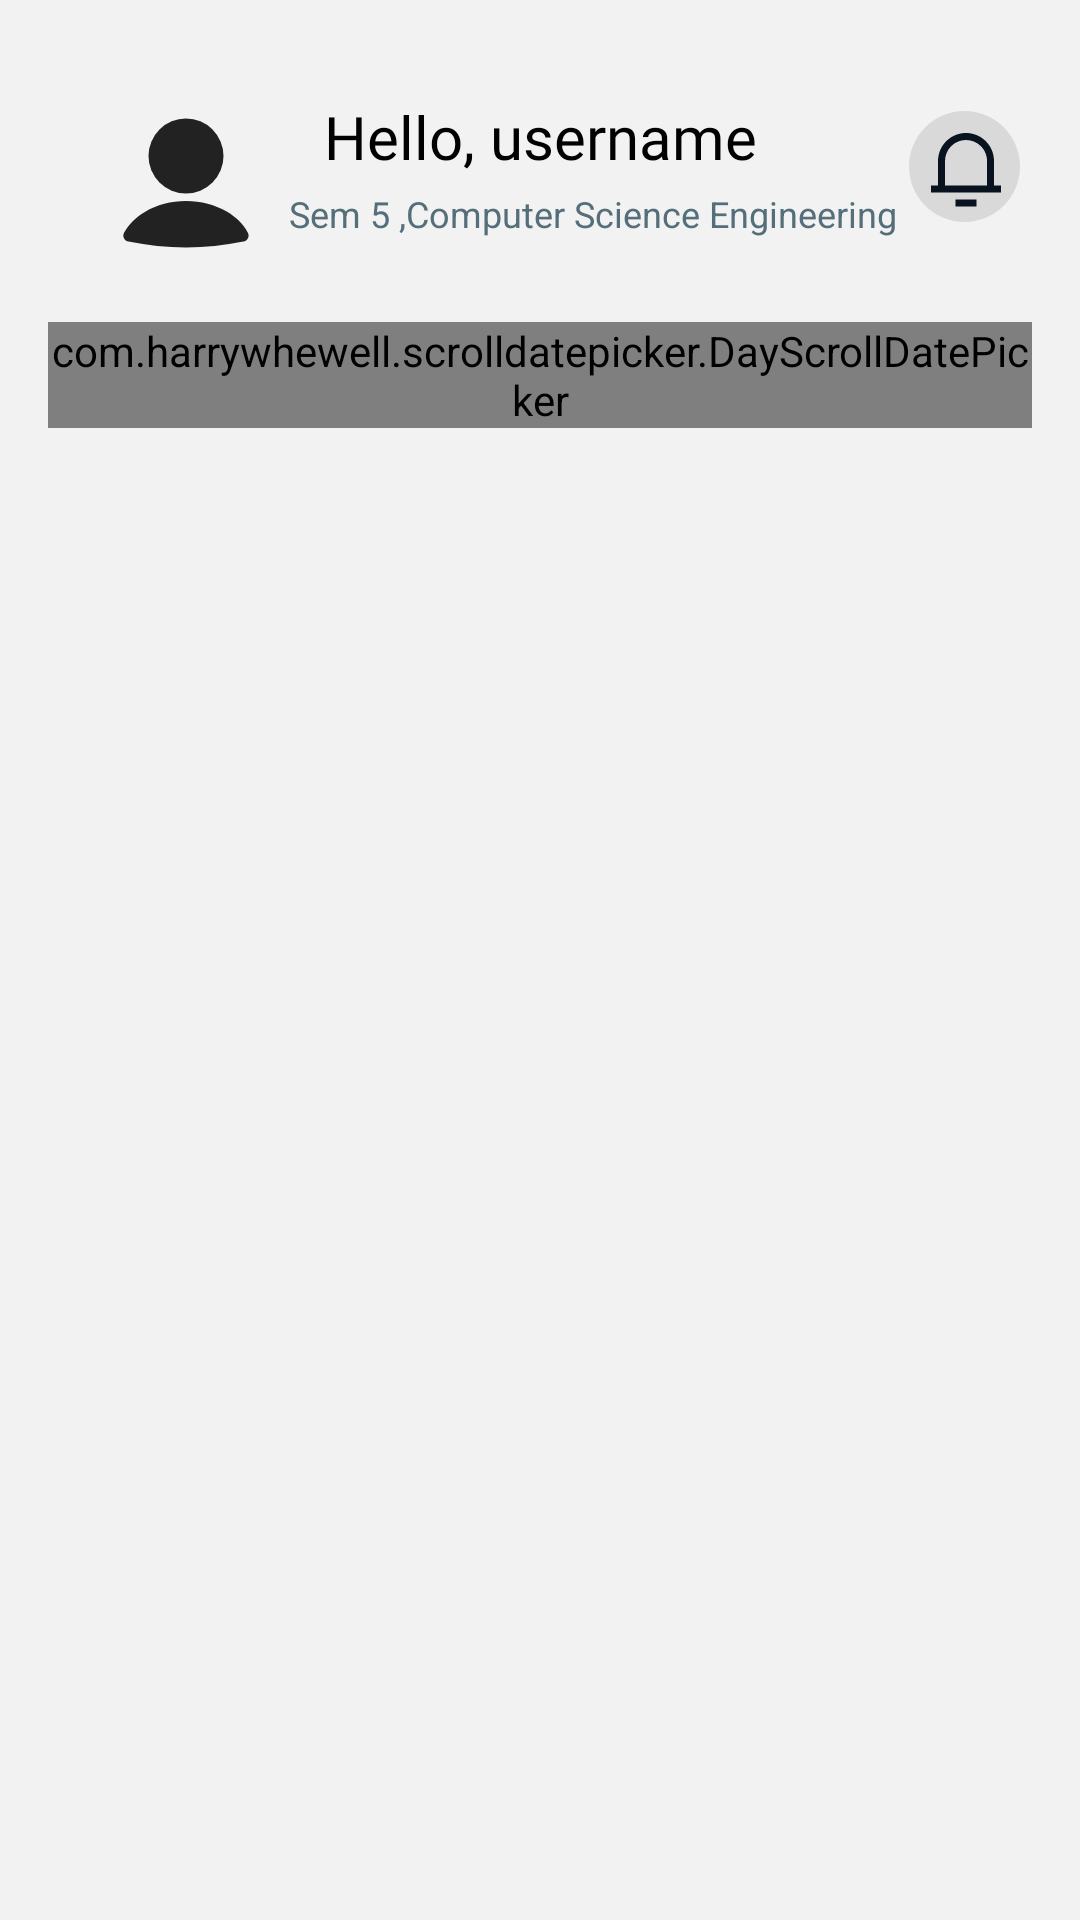

Screen size 1080px x 1920px. Icon name, then its center in pixels as point (x, y):
notification: point (964, 166)
profile: point (186, 183)
